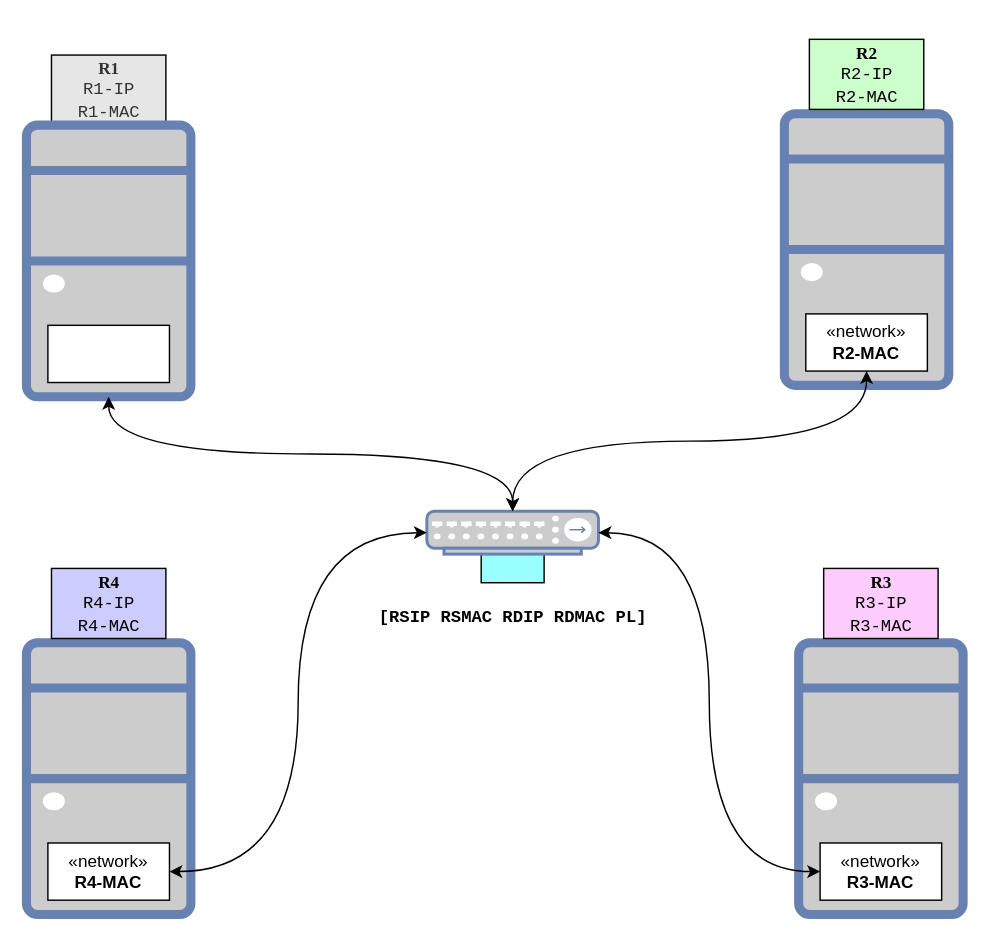
The diagram is 988 pixels wide and 940 high, and some of its shapes have lost their labels. The centre of each missing label's shape, as x and y in pixels:
"Hub" belongs at point (512, 568).
"«network» R1-MAC" belongs at point (107, 353).
